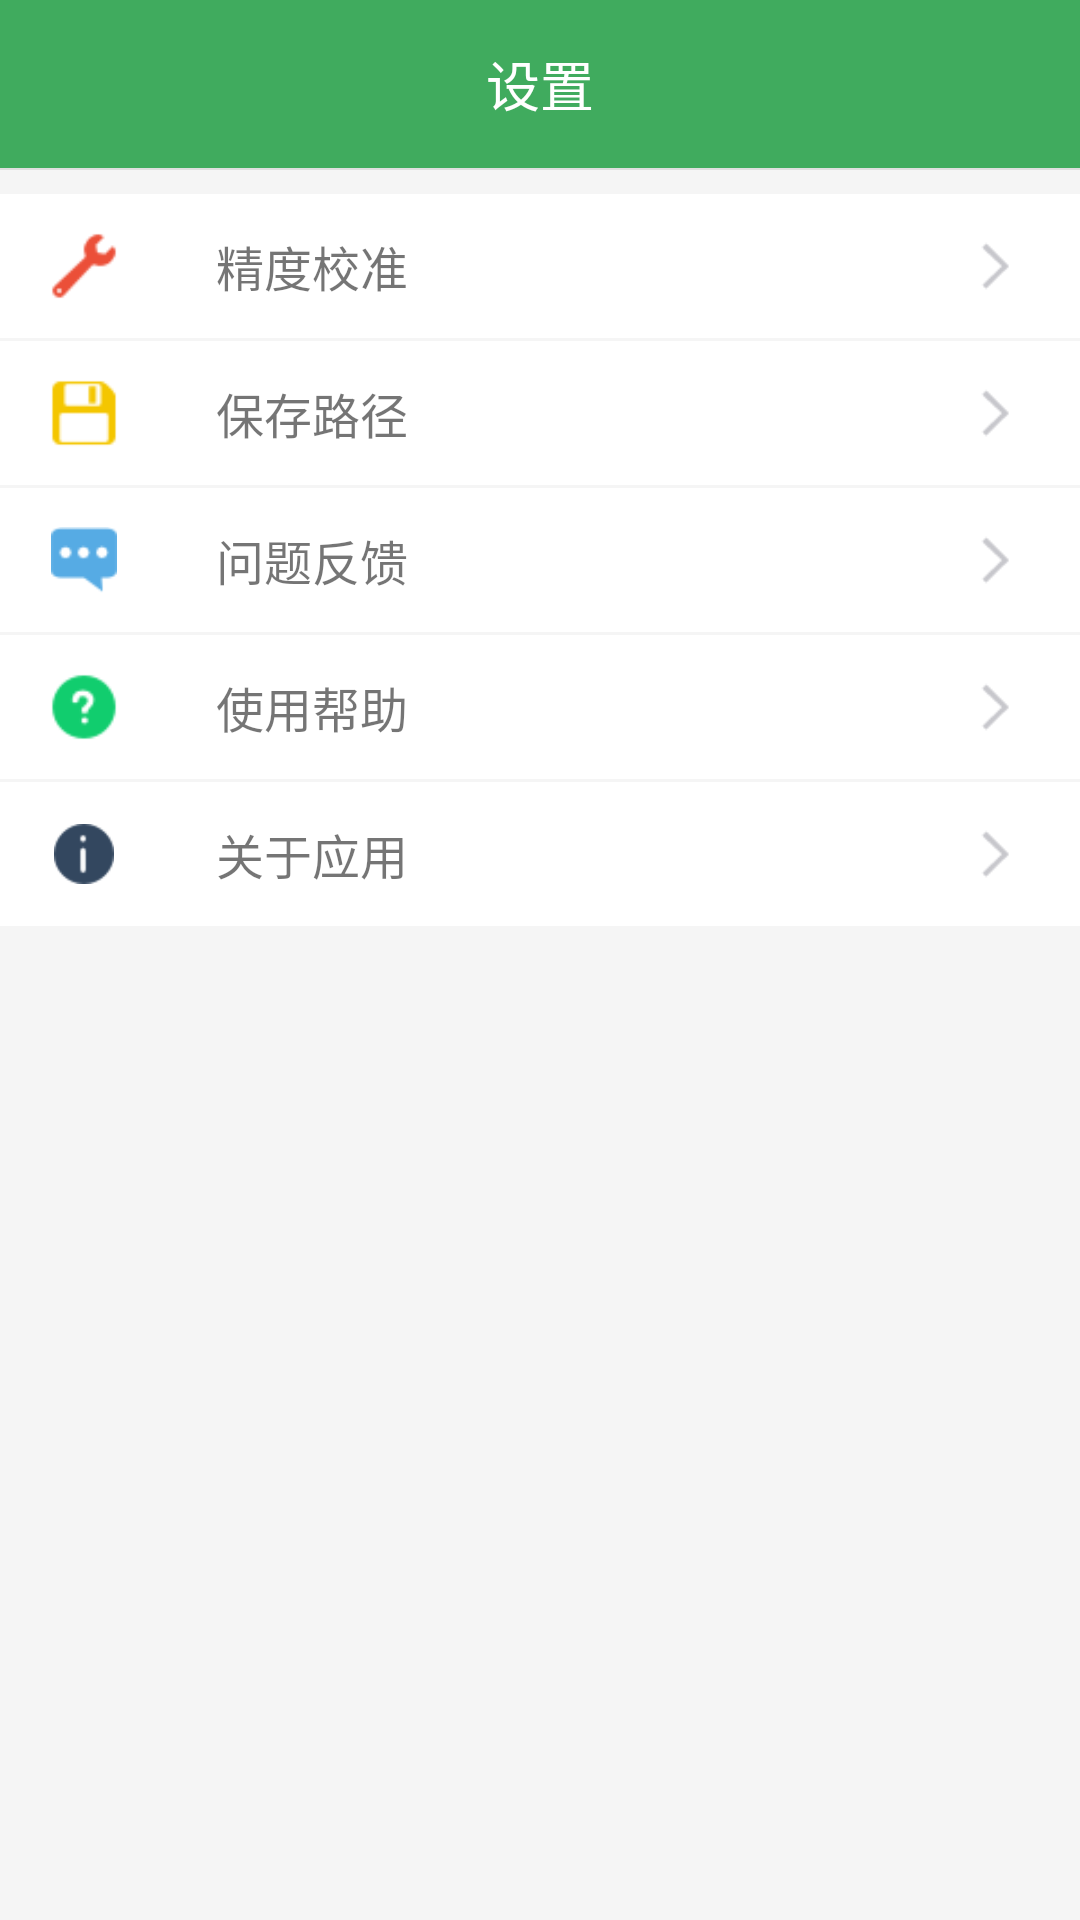

Point at icon controls on the screen. Image size 1080 × 1920, points as (x,y).
about: (84,854)
arrow right: (996,266), (995,413), (996,560), (995,707), (996,854)
feedback: (84,559)
fix: (84,266)
help: (84,707)
save: (84,413)
